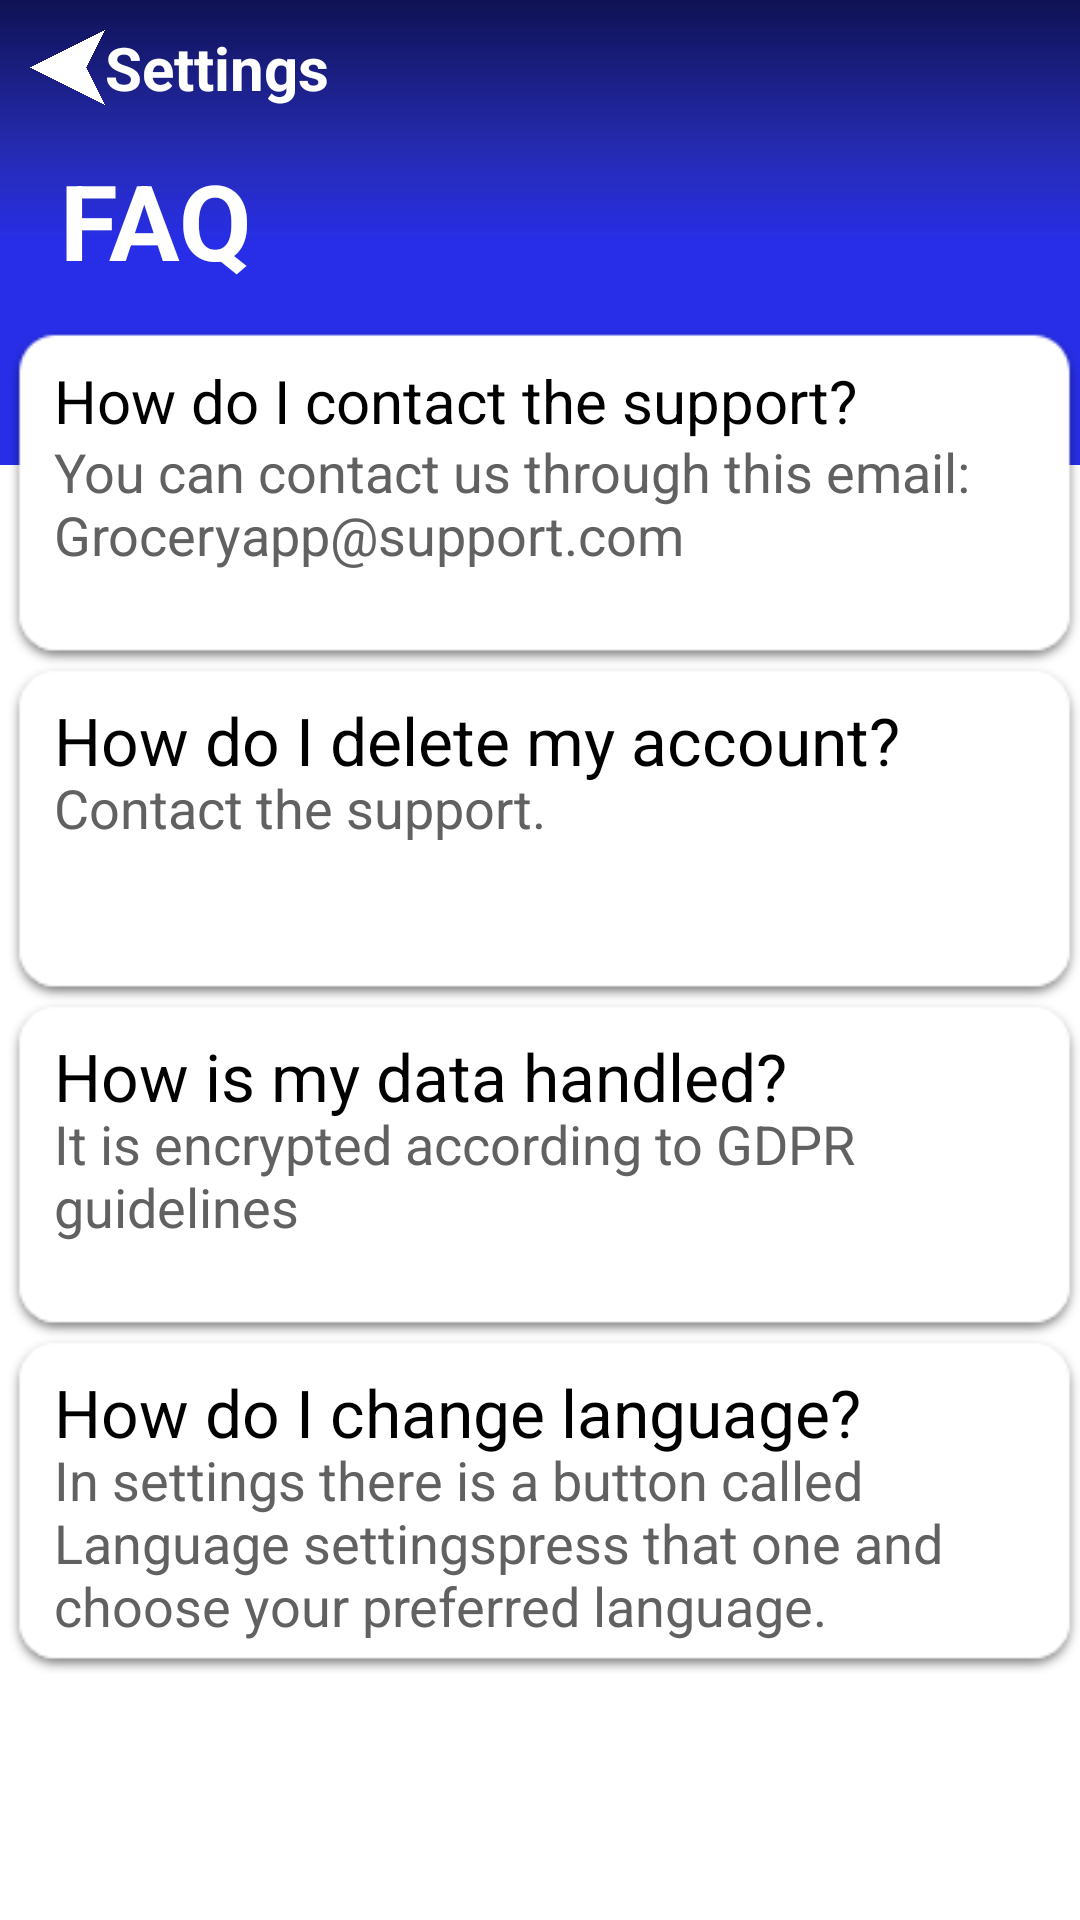

Icon click points for this 1080 × 1920 phone screenshot, format point (x, y):
leftarrow: point (67, 67)
